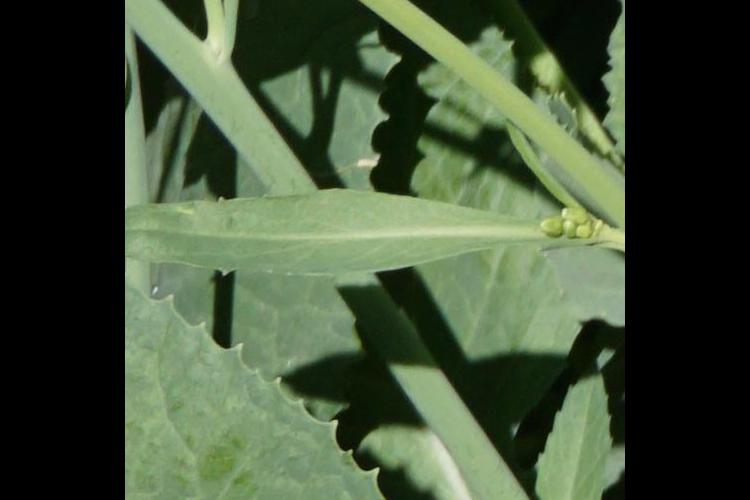bud: (558, 207, 586, 229), (540, 219, 564, 239), (558, 219, 576, 244), (575, 223, 595, 241)
